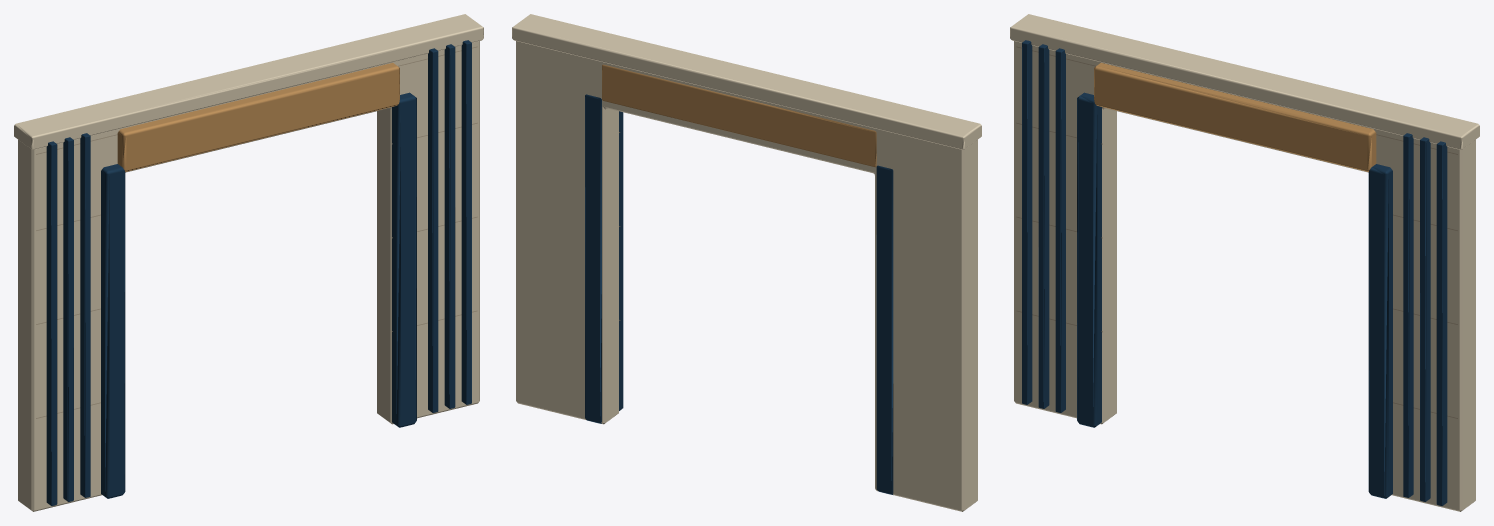
File: wall-door.fbx
3 renders of one model, left to right at view 1: azimuth 30°, elevation 25°; view 2: azimuth 150°, elevation 25°; view 3: azimuth 330°, elevation 25°, orthographic.
Visible parts, largest first — view 1: wall-door; view 2: wall-door; view 3: wall-door.
Boxes of the visible parts, <box> form: wall-door: <box>14,14,483,511</box>; wall-door: <box>512,14,981,511</box>; wall-door: <box>1010,14,1479,511</box>.
Size of the model in its own units: 404 by 322 by 35.5.
